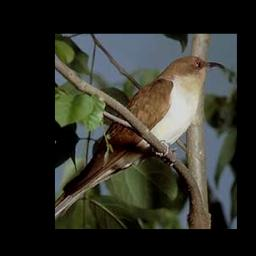Cuckoo: (55, 53, 226, 217)
